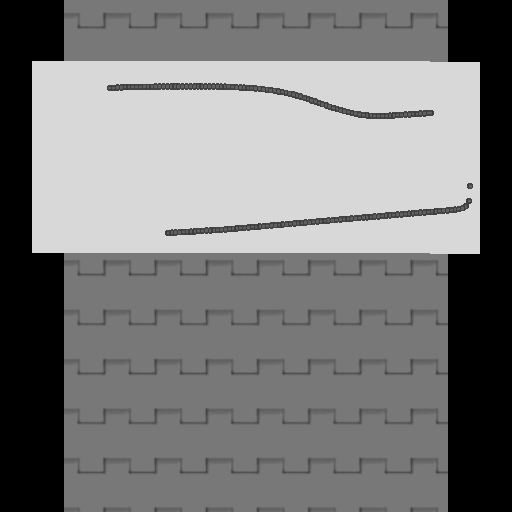Defect: (53, 79, 168, 242)
